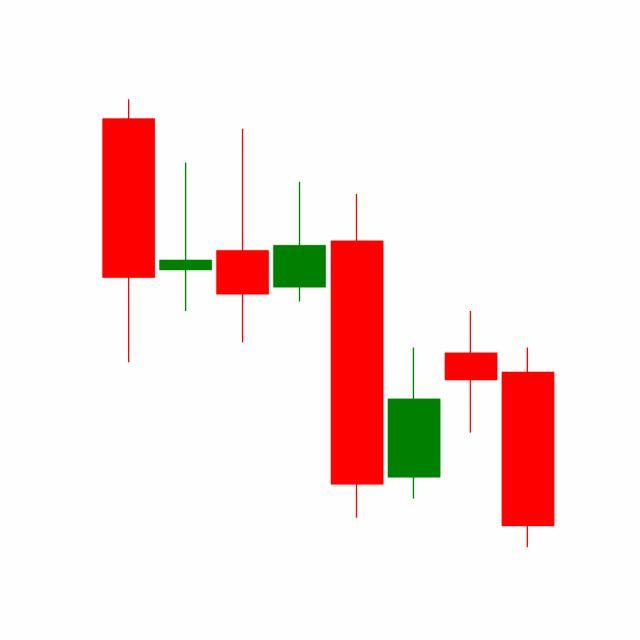Hikkake Pattern: (270, 178, 555, 548)
